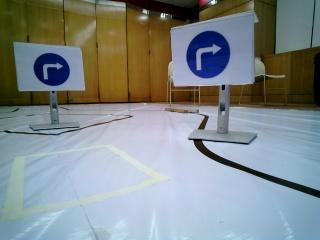right: (173, 28, 252, 81), (17, 42, 80, 88)
